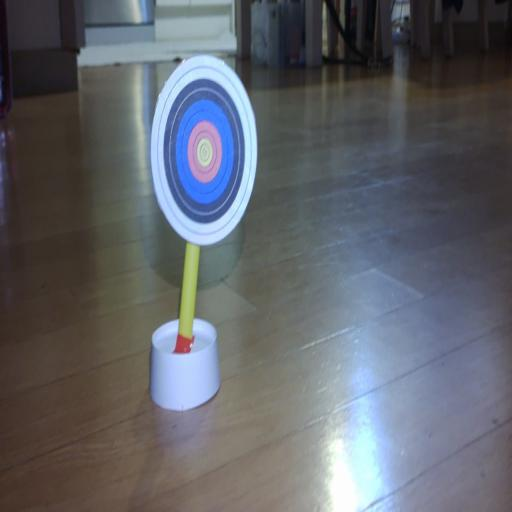target: (152, 55, 257, 245)
